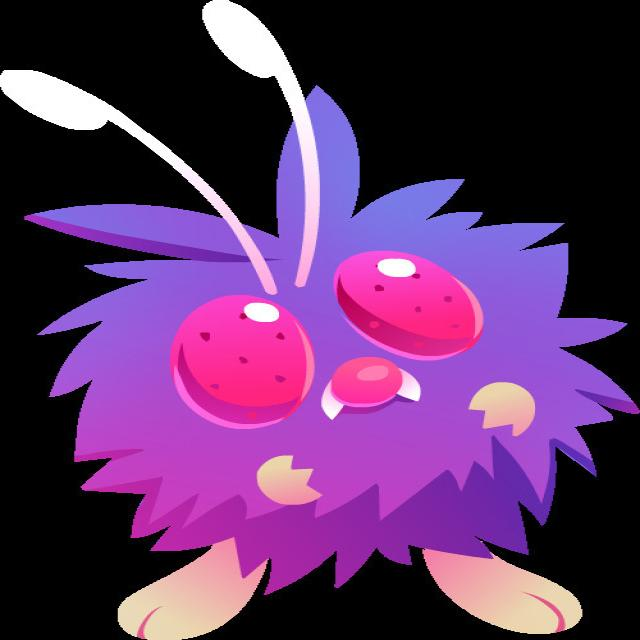Venonat: (41, 86, 602, 640)
